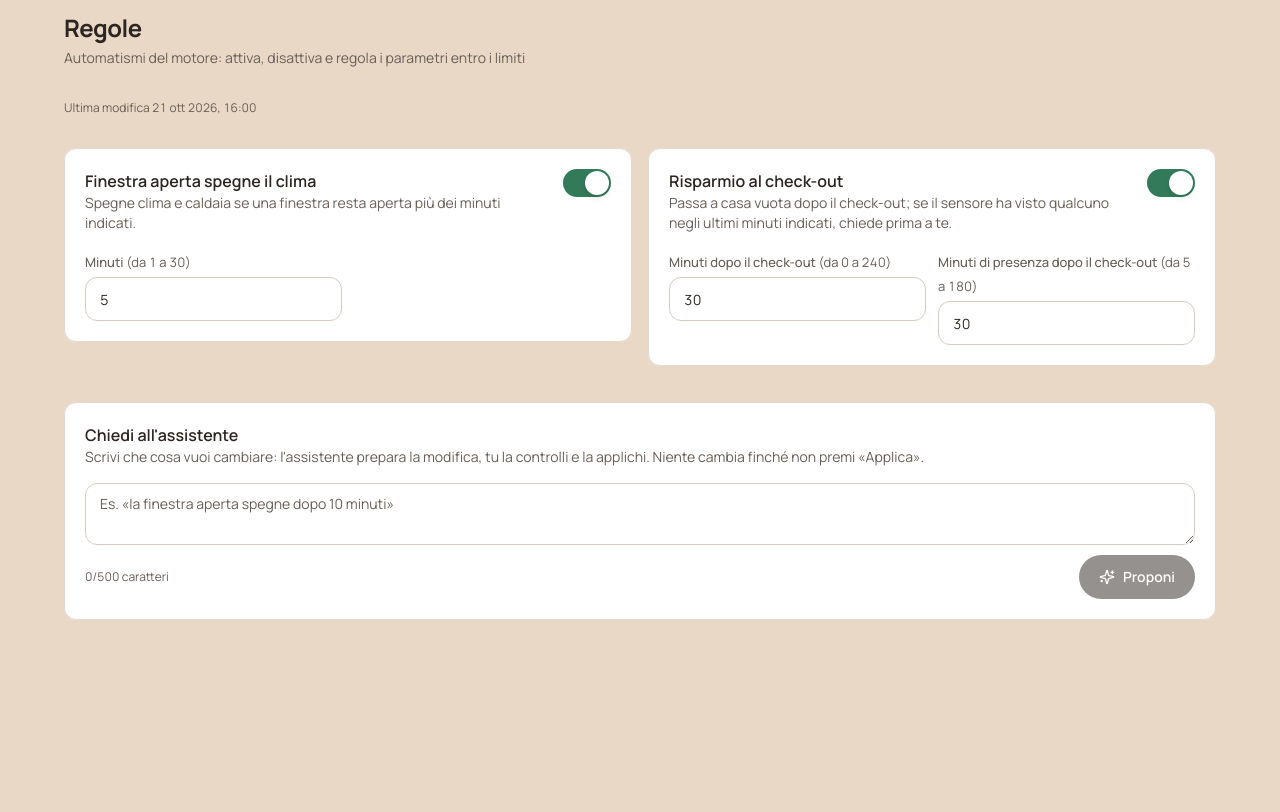
Test case: Regole: «Chiedi all'assistente» (D-151) › nessuna modifica possibile: solo la frase del server, niente «Applica»
expect the element with test id "rule-card-window_open_off" is shown: met, box [64,148,632,342]
In the text box with test id "rule-proposal-text": (640,514) [85,483,1195,545], type "finestra 90 minuti"
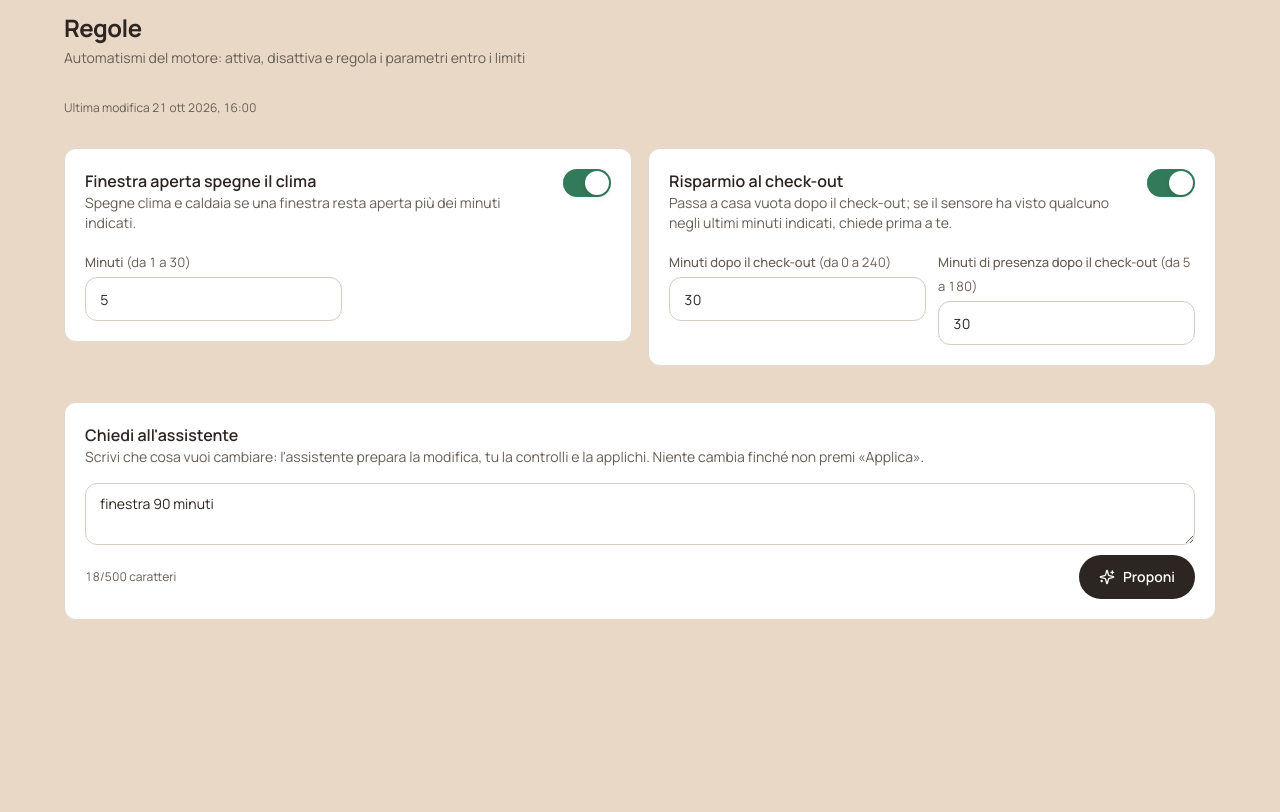
Click the button with test id "rule-proposal-ask": (1137,577) [1079,555,1195,599]
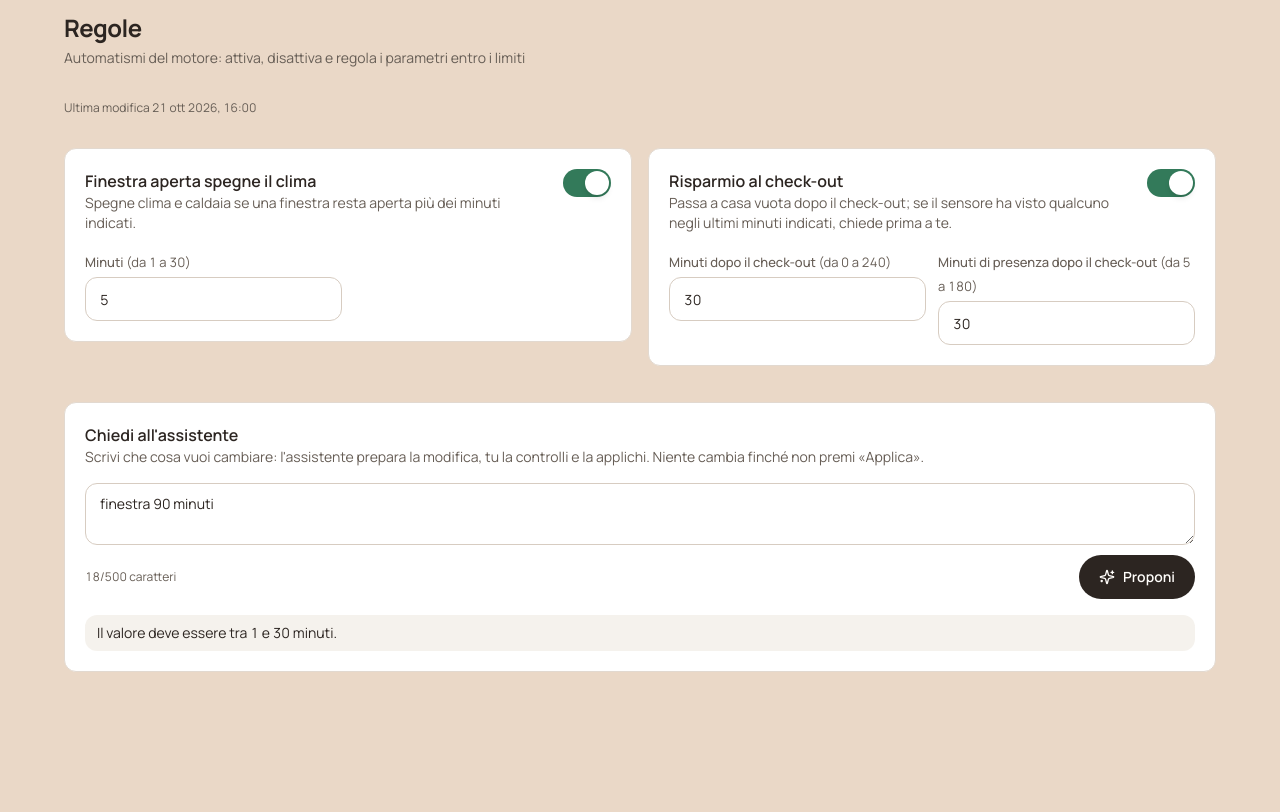
expect the text with test id "rule-proposal-none" reads "Il valore deve essere tra 1 e 30 minuti.": met, box [97,623,337,642]
